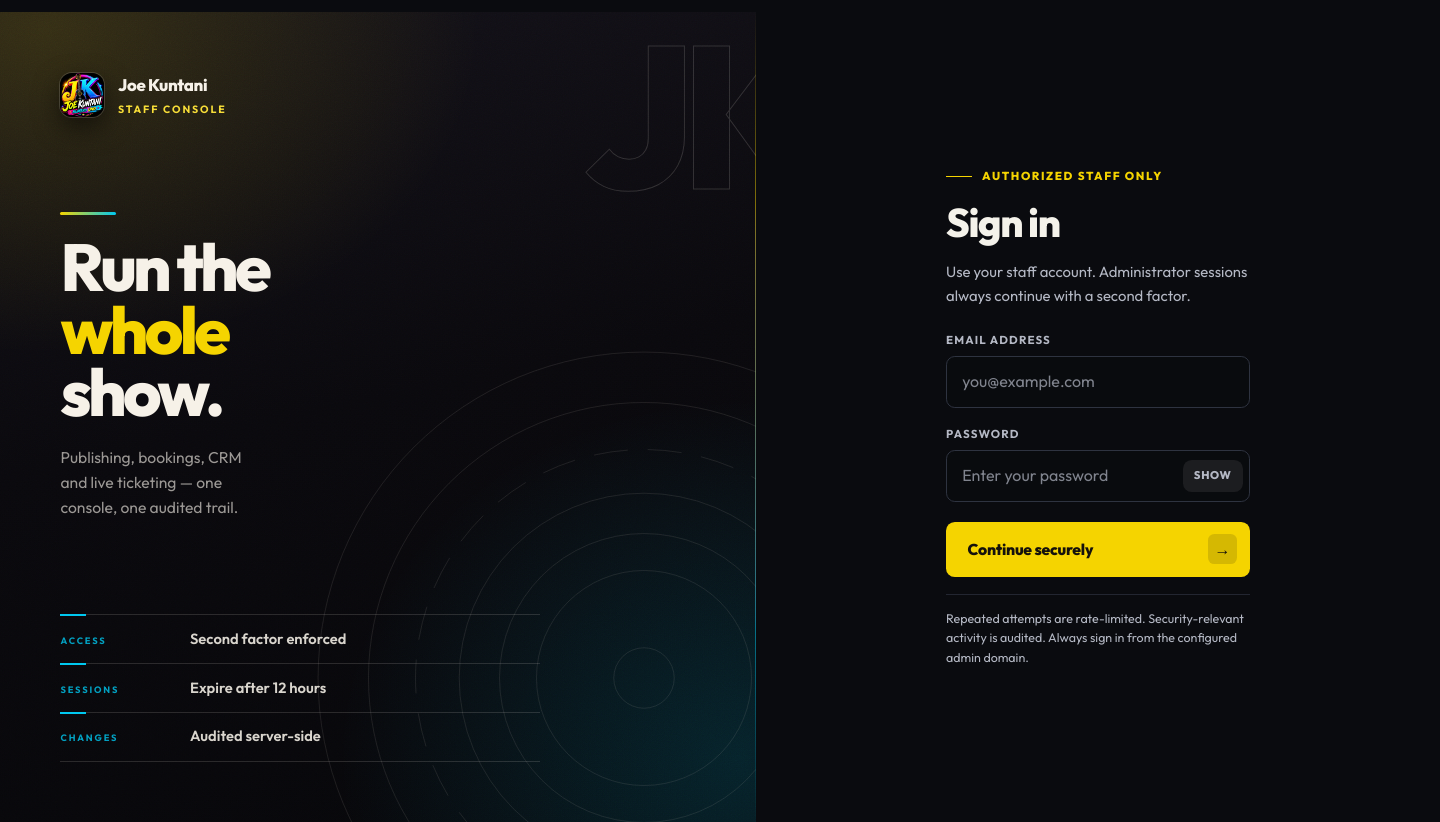
Test: LoginForm › shows a generic rejection
Type "staff@example.invalid" into the field labelled "Email address" at (1098, 382), box [946,356,1250,408]
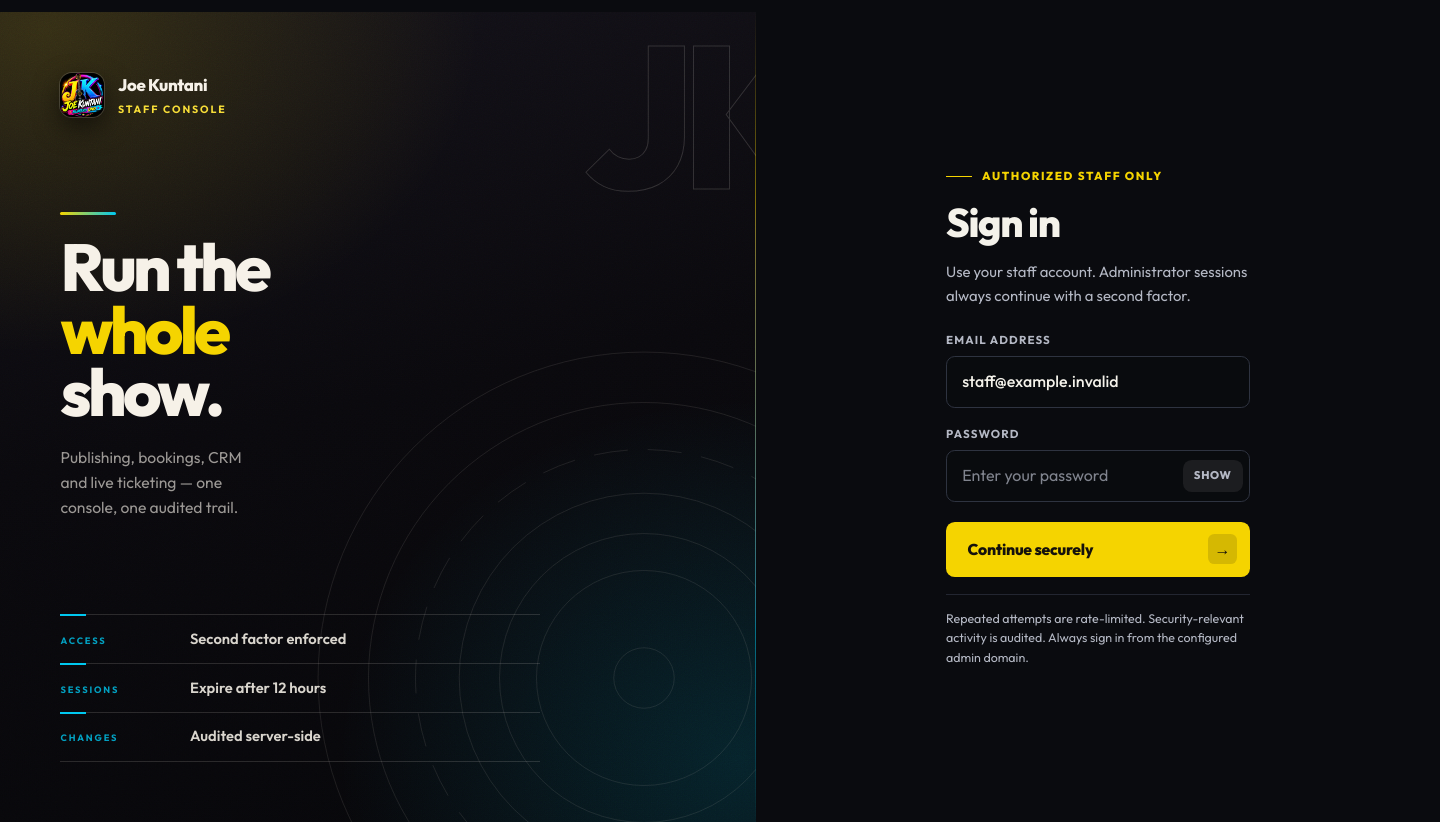
Type "wrong but long enough" into the password field labelled "Password" at (1098, 476), box [946,450,1250,502]
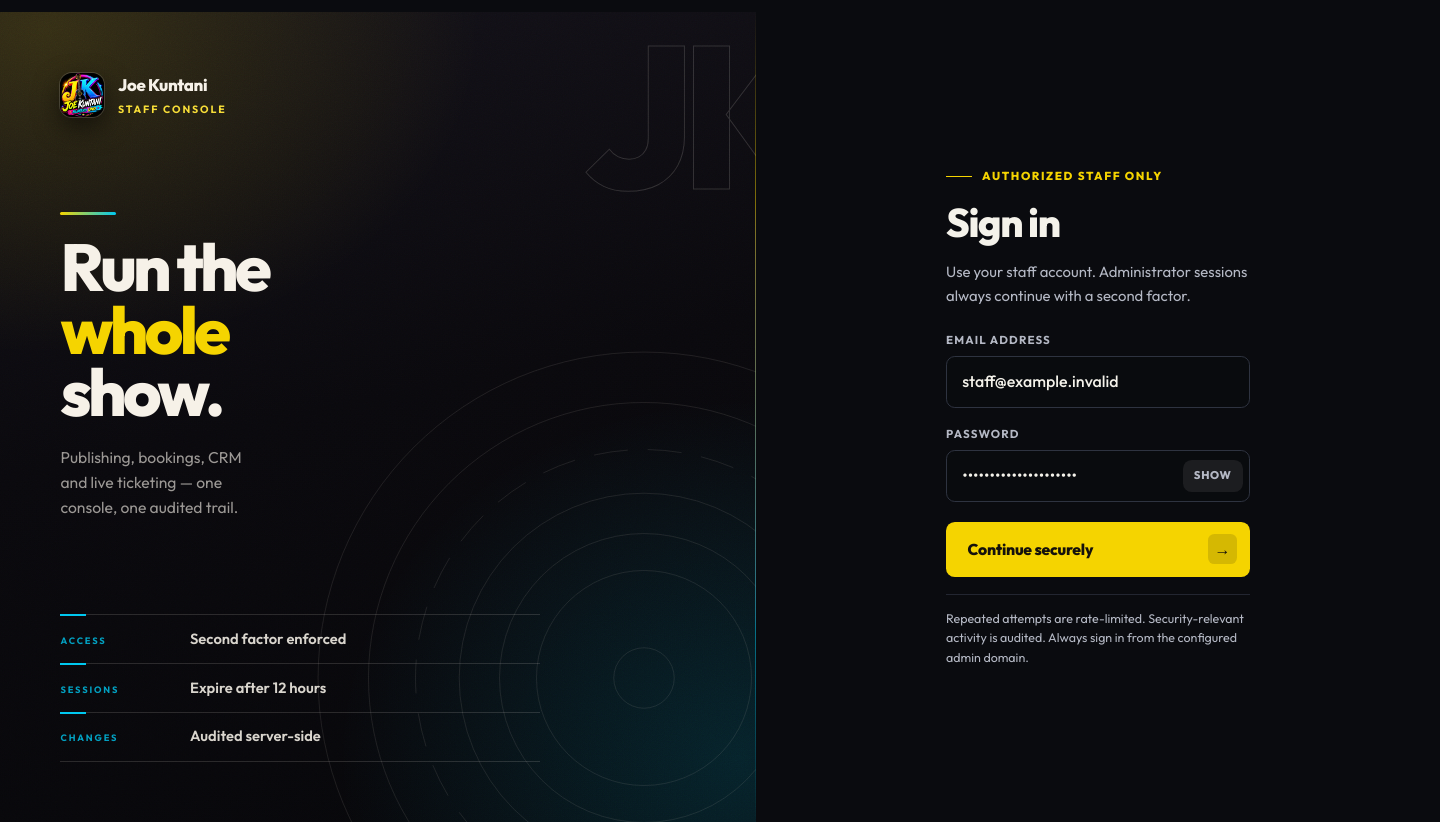
Click the button "Continue securely →" at (1030, 549), box [946,522,1250,577]
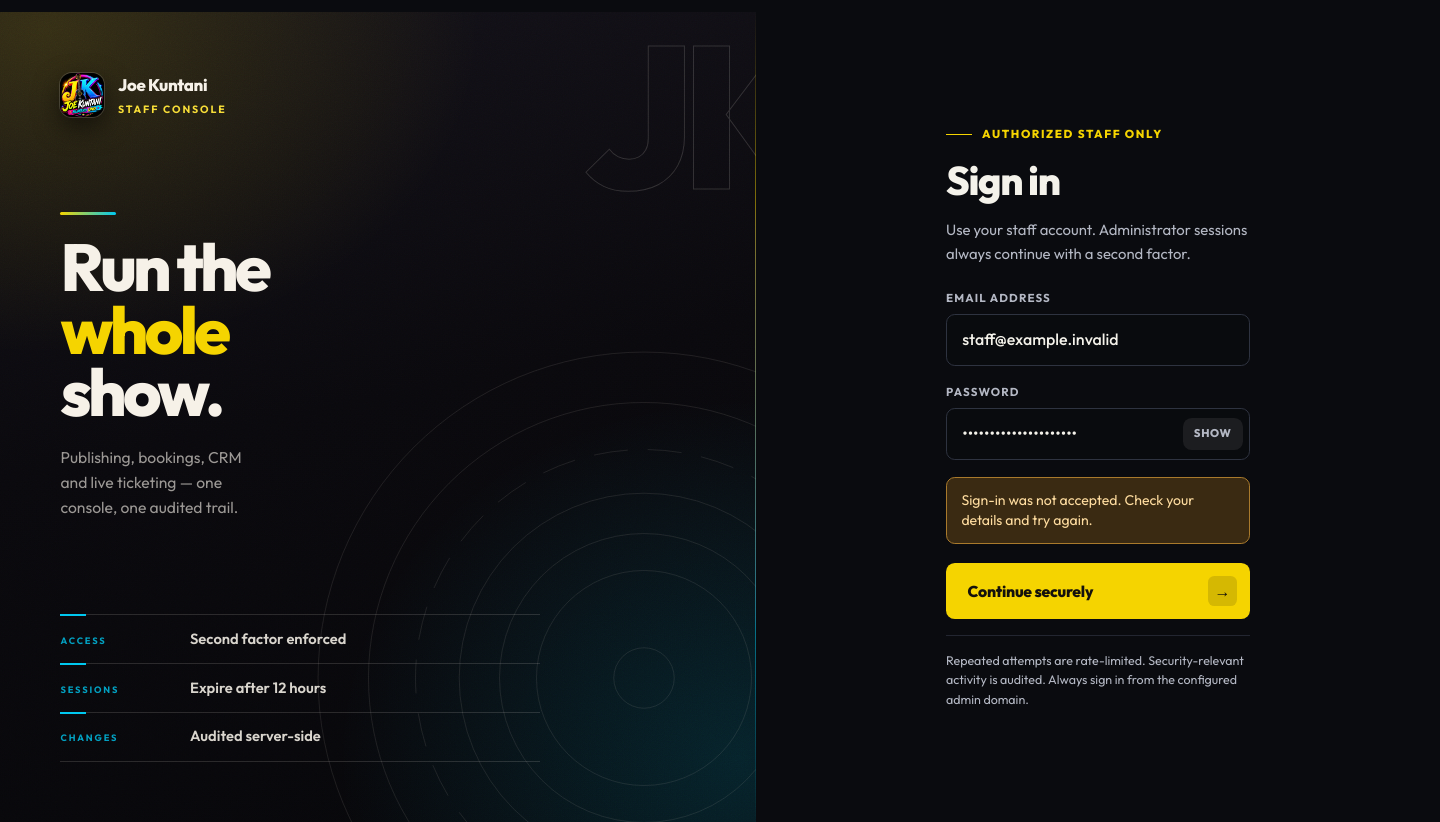
Now the message shows "Sign-in was not accepted", box [961,491,1194,529]
